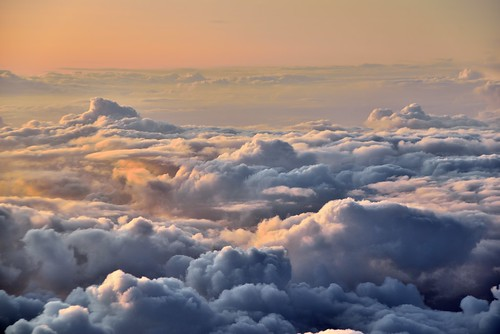sky: (1, 1, 500, 331)
